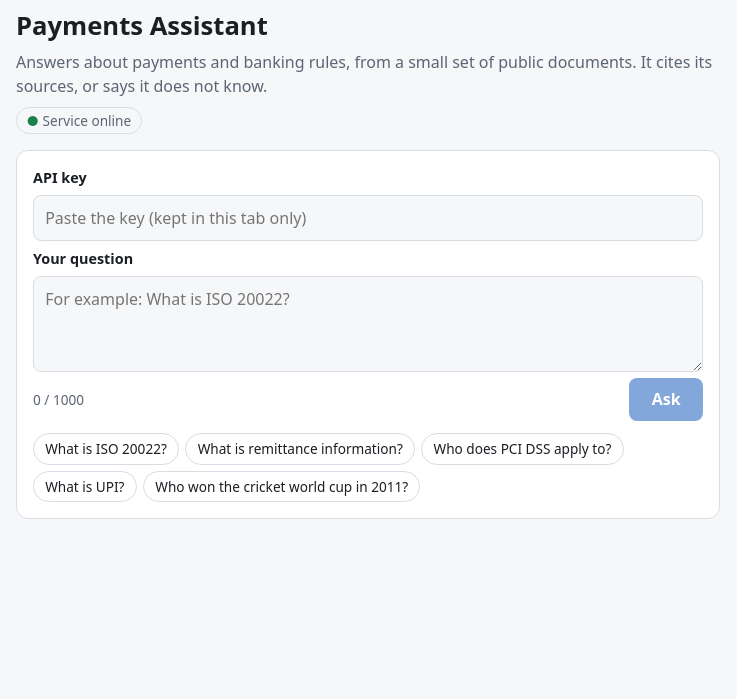
the page › marks a citation number the API did not return as unavailable instead of linking it
This screenshot has width=737, height=699.
Type "What is ISO 20022?" into the text box labelled "Your question" at [368, 324], box [33,276,703,372]
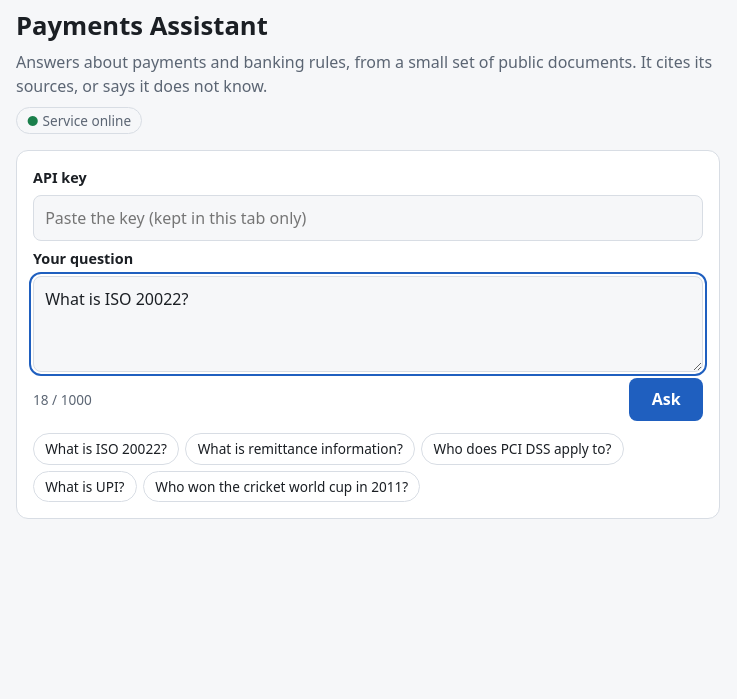
Click the button "Ask" at [666, 400], box [629,378,703,421]
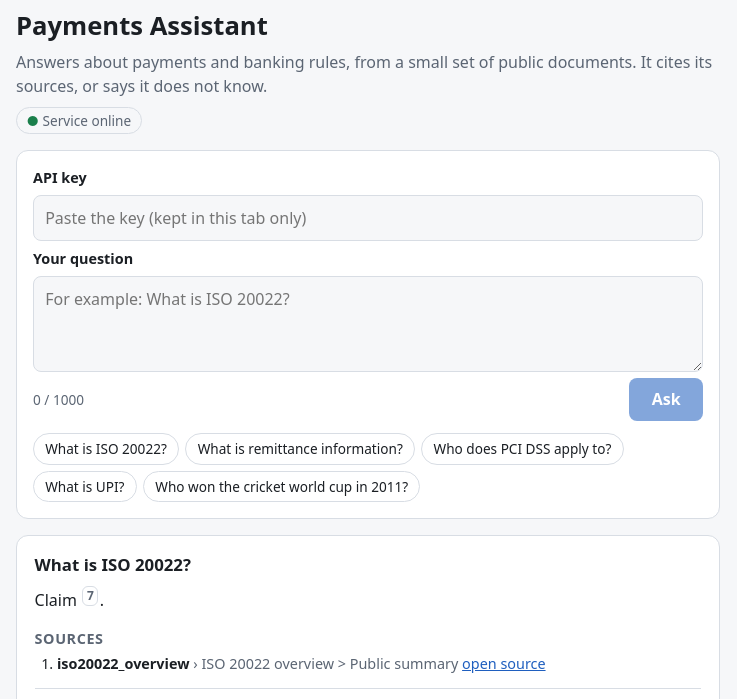
Now the text titled "This source number was not returned" reads "7", box [87,587,94,604]
